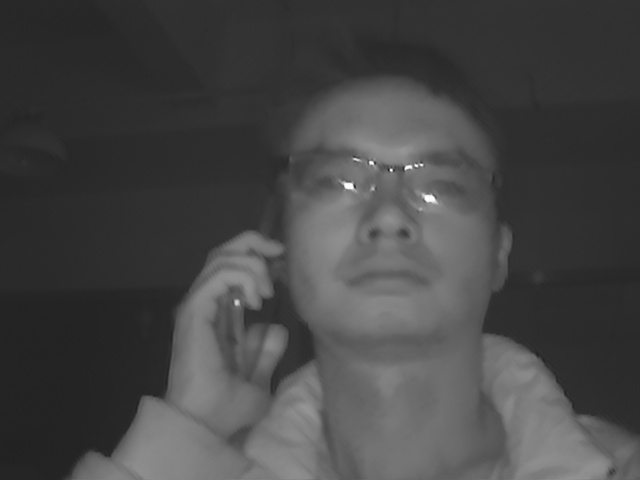hand: (162, 227, 291, 428)
